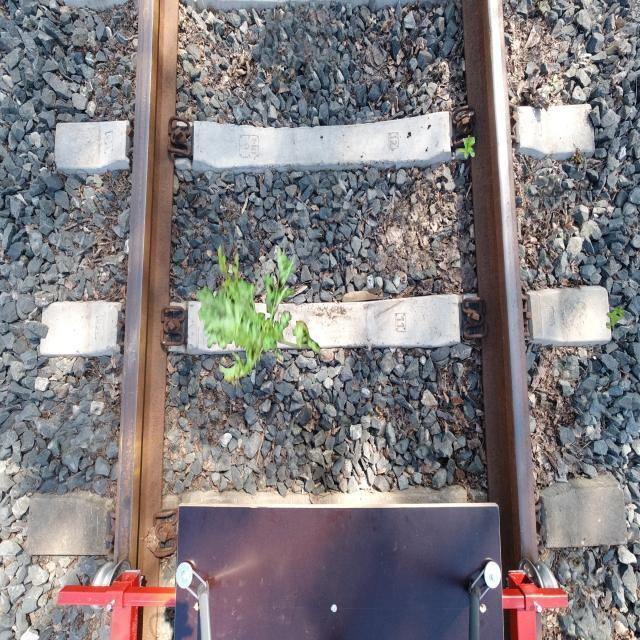Plant: (196, 242, 321, 389), (606, 305, 626, 330), (458, 135, 476, 159)
